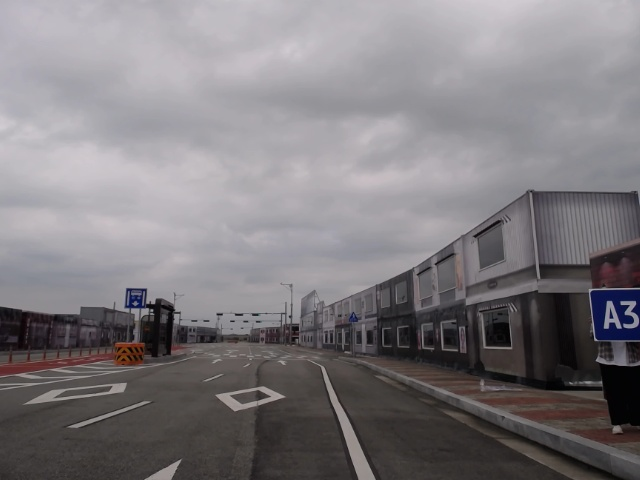delivery_a3: (589, 288, 639, 341)
